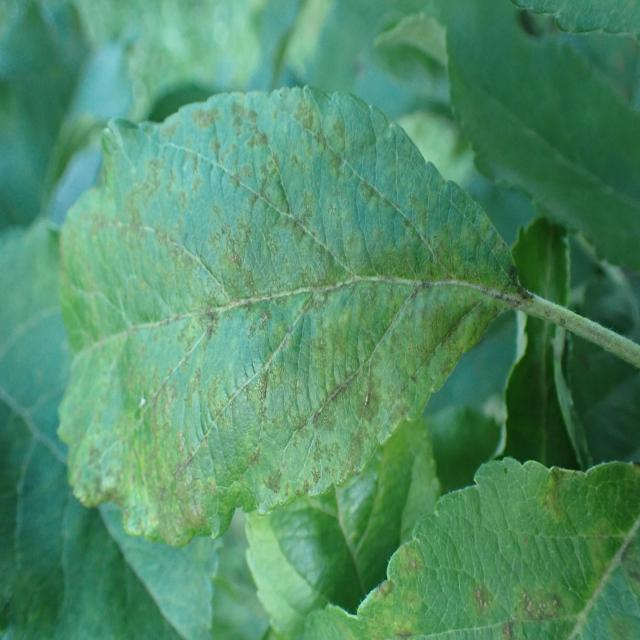scab: (30, 66, 518, 524), (264, 472, 640, 638)
